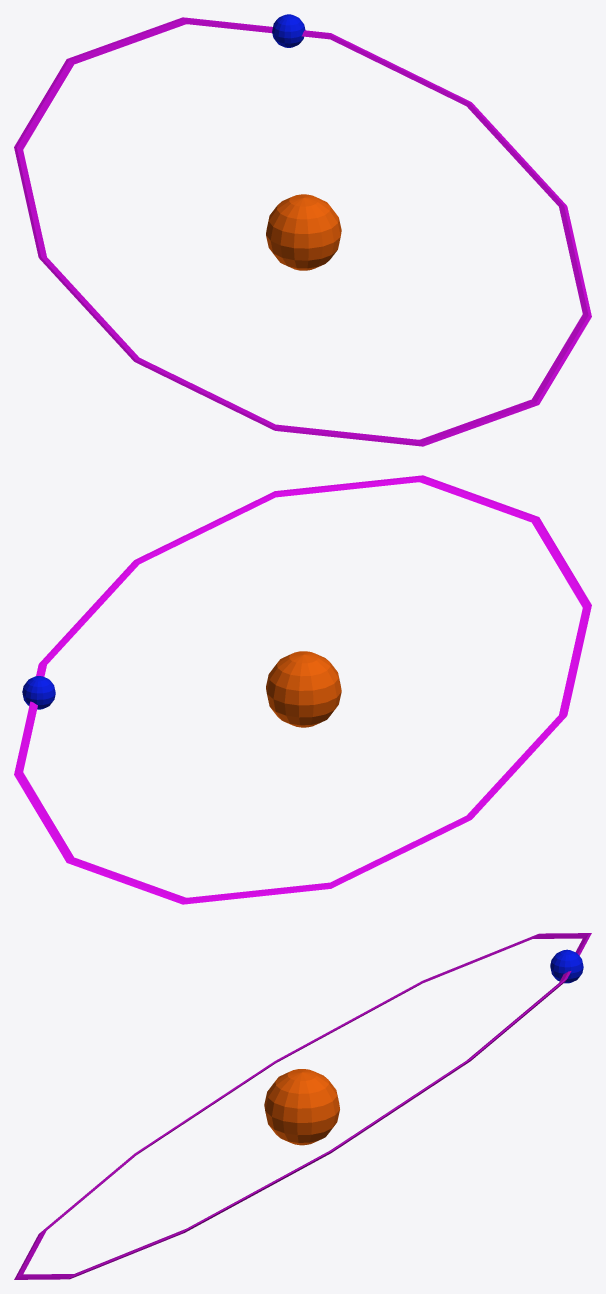
Rendered from 4.MercuryFullAnimation.fbx.
The picture shows the model from 3 angles, top to bottom: view 1: azimuth 30°, elevation 25°; view 2: azimuth 150°, elevation 25°; view 3: azimuth 330°, elevation 25°; orthographic projection.
Parts seen in each view (by area): view 1: 4.-MArsOrbit, _Sun, 4.-Mars; view 2: 4.-MArsOrbit, _Sun, 4.-Mars; view 3: 4.-MArsOrbit, _Sun, 4.-Mars.
Boxes of the visible parts, x1,y1,x2,y2 form: 4.-MArsOrbit: (14, 17, 591, 446); _Sun: (266, 194, 341, 270); 4.-Mars: (272, 14, 305, 47); 4.-MArsOrbit: (14, 475, 591, 904); _Sun: (266, 651, 341, 727); 4.-Mars: (22, 676, 55, 709); 4.-MArsOrbit: (14, 933, 591, 1279); _Sun: (264, 1069, 339, 1145); 4.-Mars: (550, 949, 583, 983).
Bounding box in the file's own units: 139 × 69.76 × 336.
